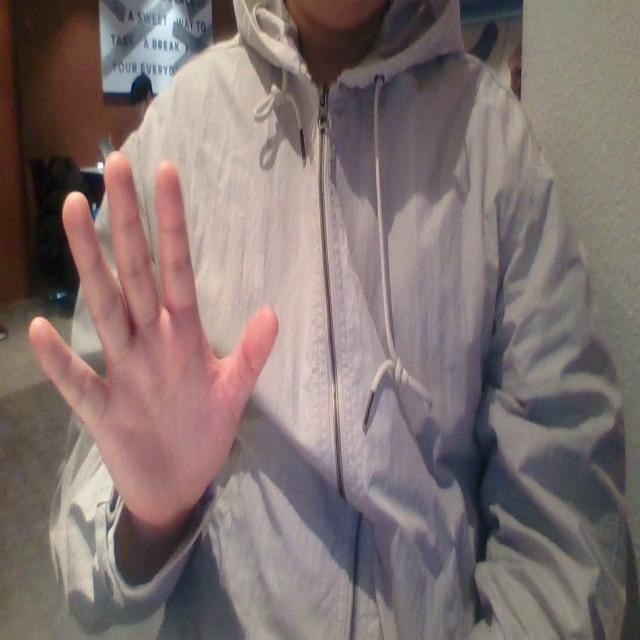hand: (23, 145, 301, 550)
